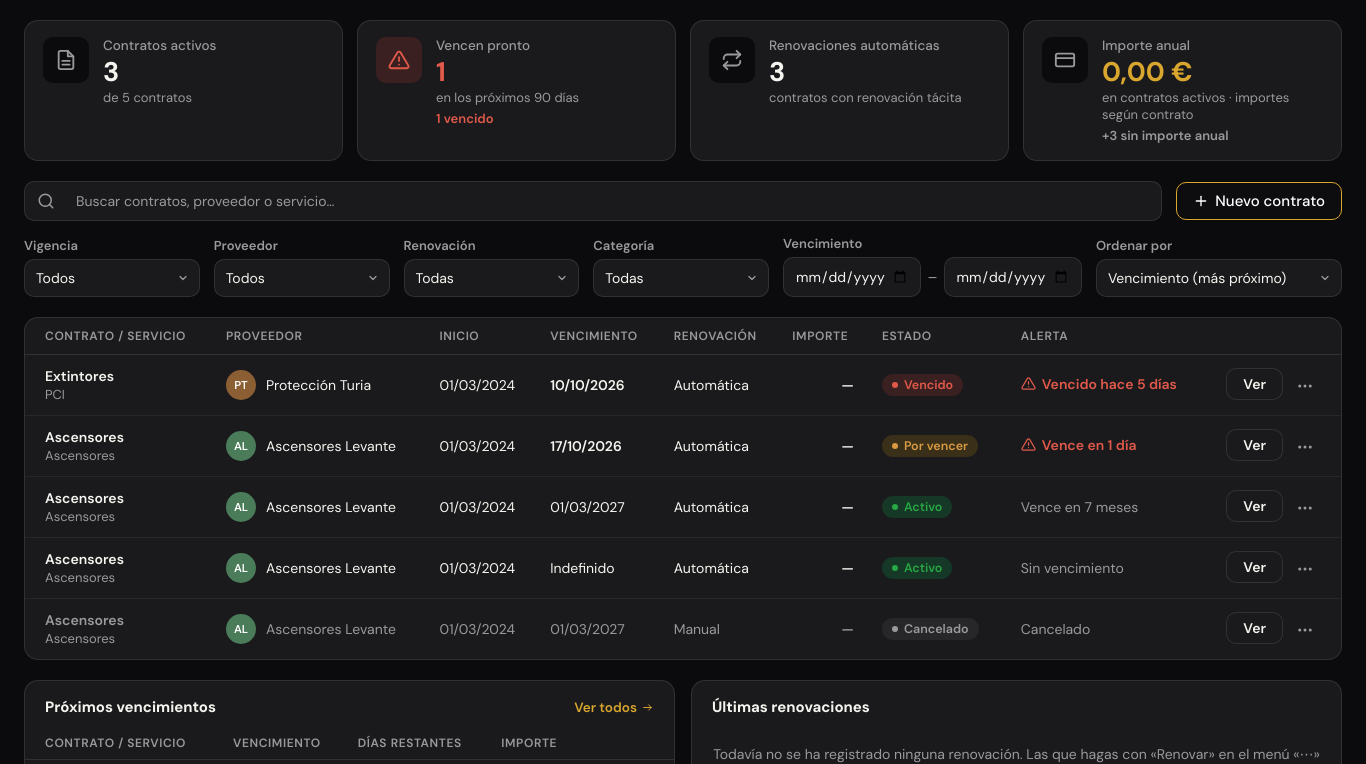
Test: ContractsTabComponent › gestión de contratos (D1, D2, D3) › renovar: abre el diálogo, envía la renovación y refresca la lista y el histórico
This screenshot has width=1366, height=764.
Click the button with class "table__more" in the row of "Vence en 7 meses".
click(1305, 508)  # box x1=1289 y1=492 x2=1321 y2=524
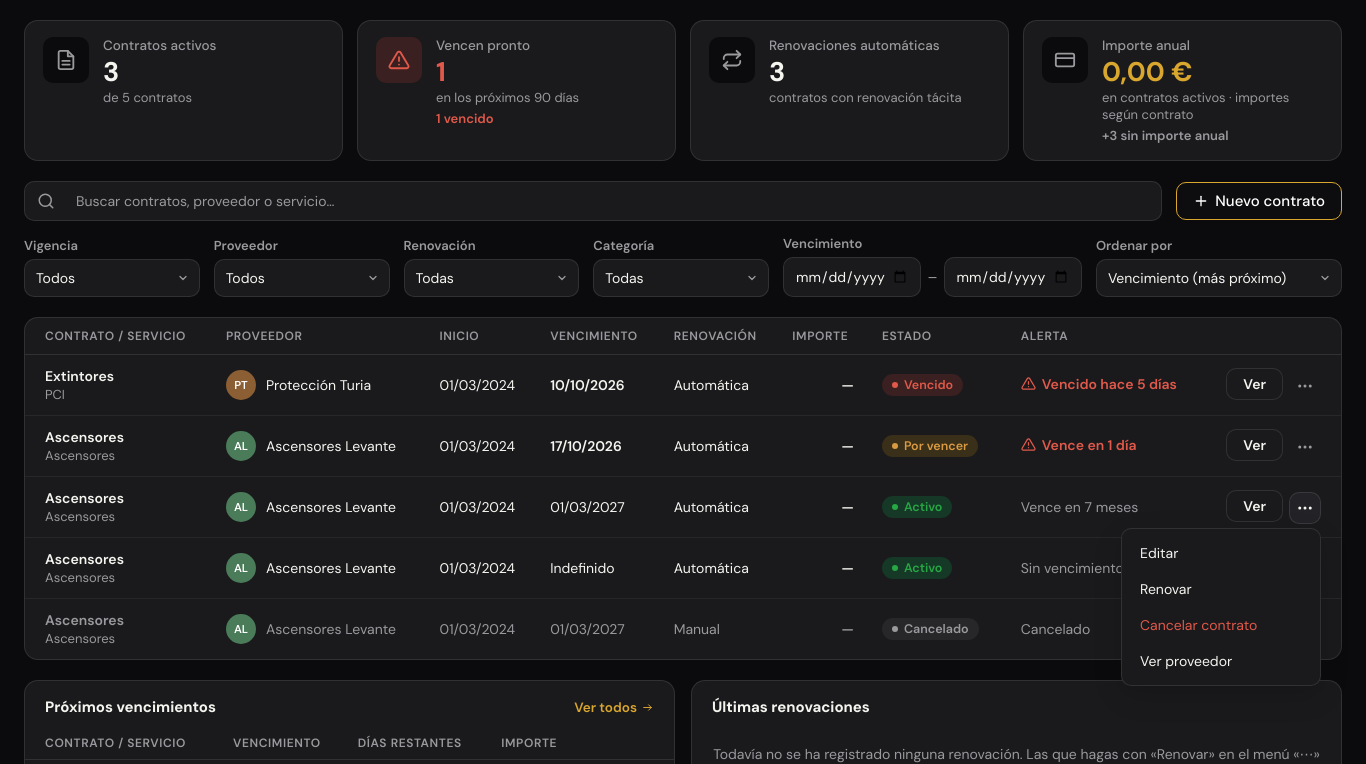
Click the menu item "Renovar".
click(1221, 589)  # box x1=1128 y1=571 x2=1314 y2=607
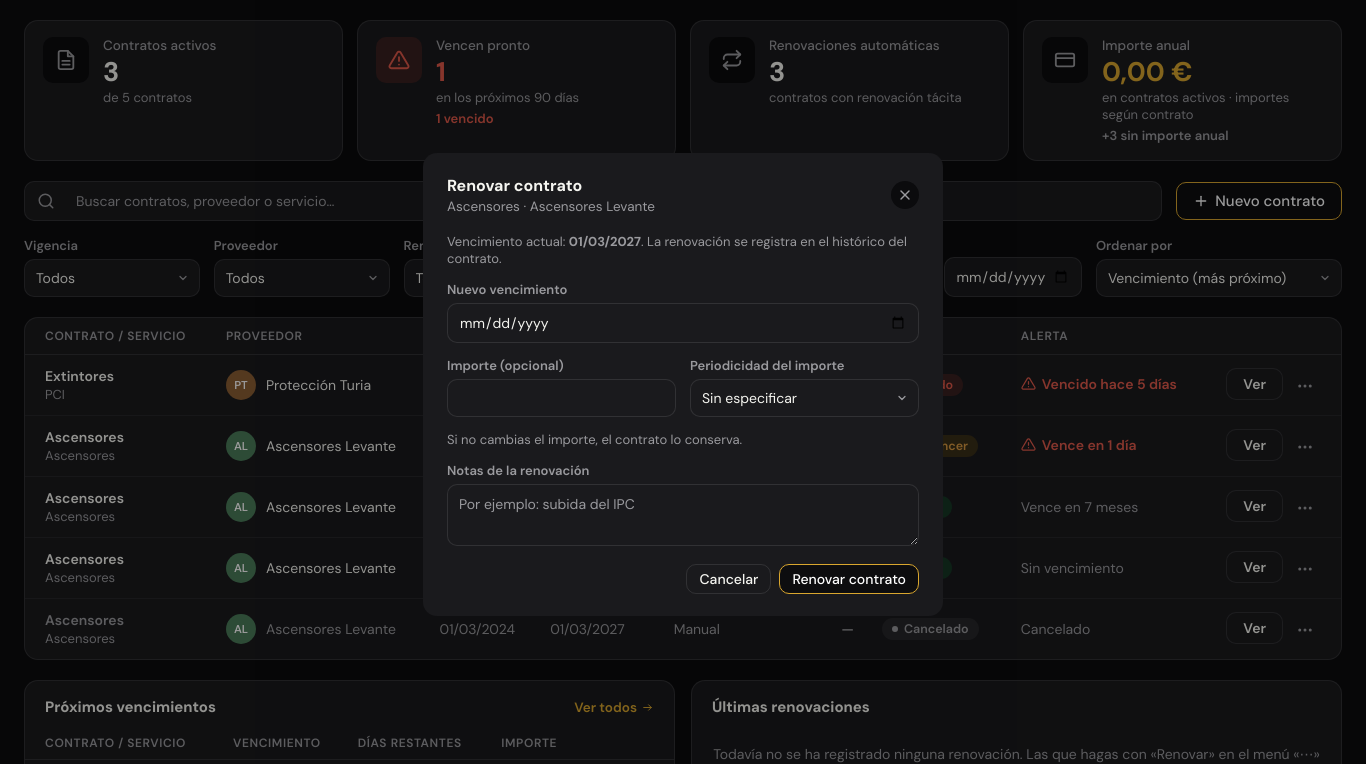
Check: the heading with id "cr-title" reads "Renovar contrato", box x1=447 y1=174 x2=582 y2=196
